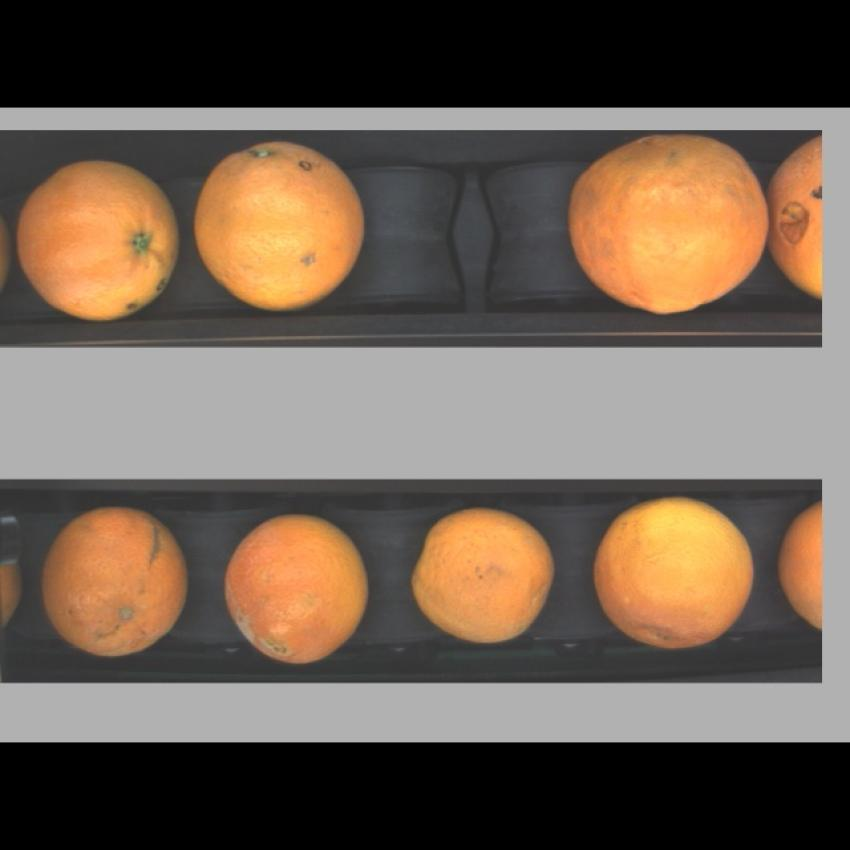Buen estado: (588, 499, 759, 654), (775, 501, 821, 630)
Mal estado: (566, 137, 772, 312), (193, 144, 378, 309), (13, 154, 179, 322), (41, 507, 196, 651), (221, 512, 371, 659), (407, 501, 560, 642), (768, 138, 822, 300)
